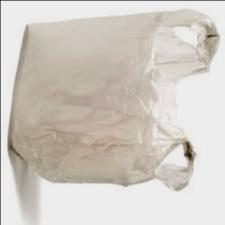Plastic: (2, 8, 222, 189)
